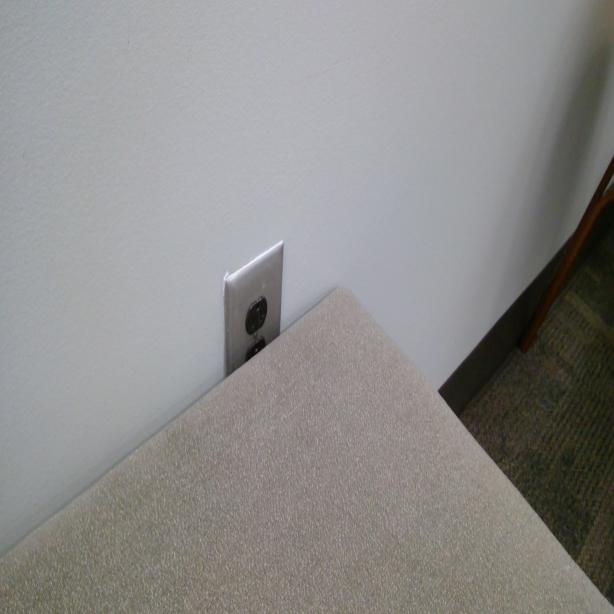typeb: (249, 300, 268, 332)
